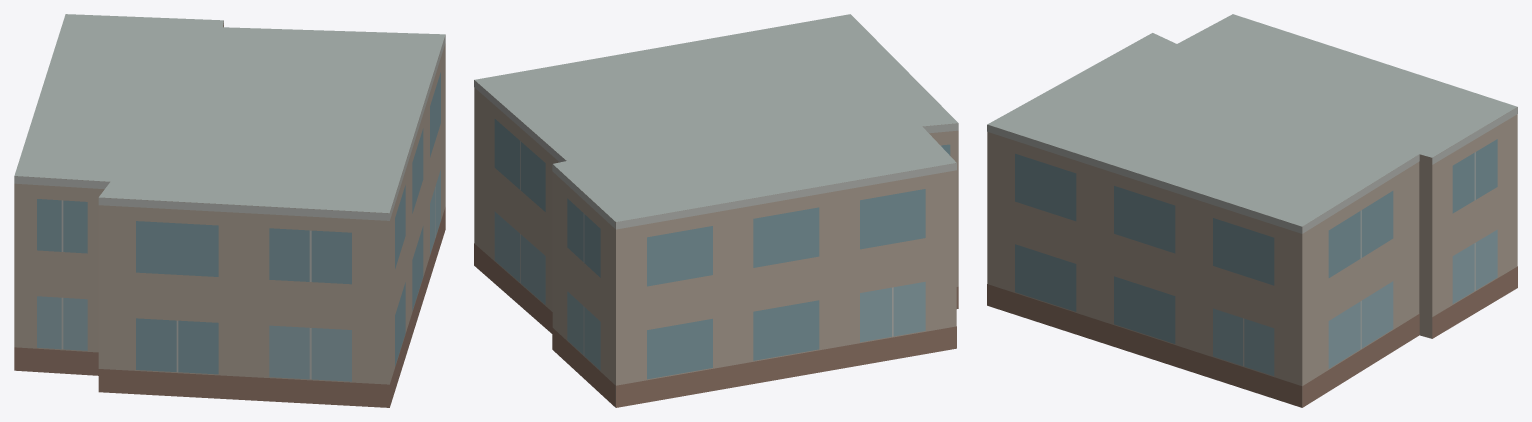
File: survey-upis-32850019.glb
3 renders of one model, left to right at view 1: azimuth 30°, elevation 25°; view 2: azimuth 150°, elevation 25°; view 3: azimuth 270°, elevation 25°, orthographic. The views are drawn at different scales.
Parts seen in each view (by area): view 1: survey-upis-32850019.tmp; view 2: survey-upis-32850019.tmp; view 3: survey-upis-32850019.tmp.
Part boxes in pixels (bbox=[...]): survey-upis-32850019.tmp: bbox=[14, 14, 445, 407]; survey-upis-32850019.tmp: bbox=[474, 14, 958, 407]; survey-upis-32850019.tmp: bbox=[987, 14, 1517, 407].
Bounding box in the file's own units: 15.37 × 6.1 × 16.2.
